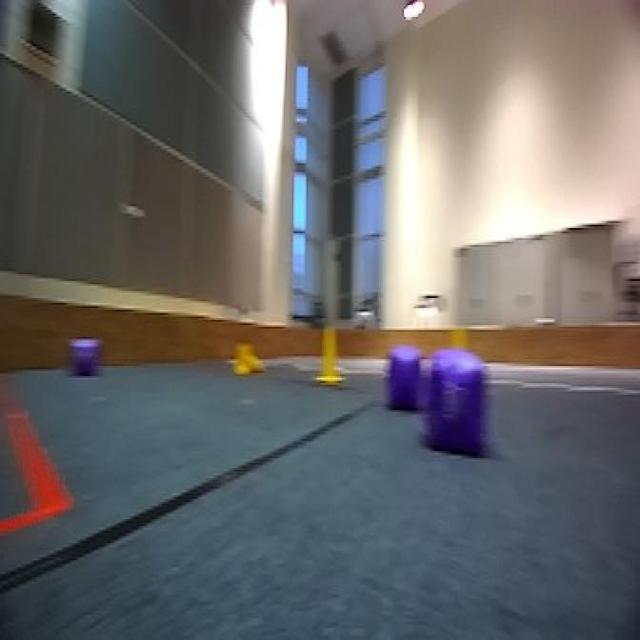frc_cone: (314, 324, 346, 386), (230, 338, 264, 379)
frc_cube: (422, 356, 488, 449), (68, 335, 98, 383), (389, 359, 420, 404)
